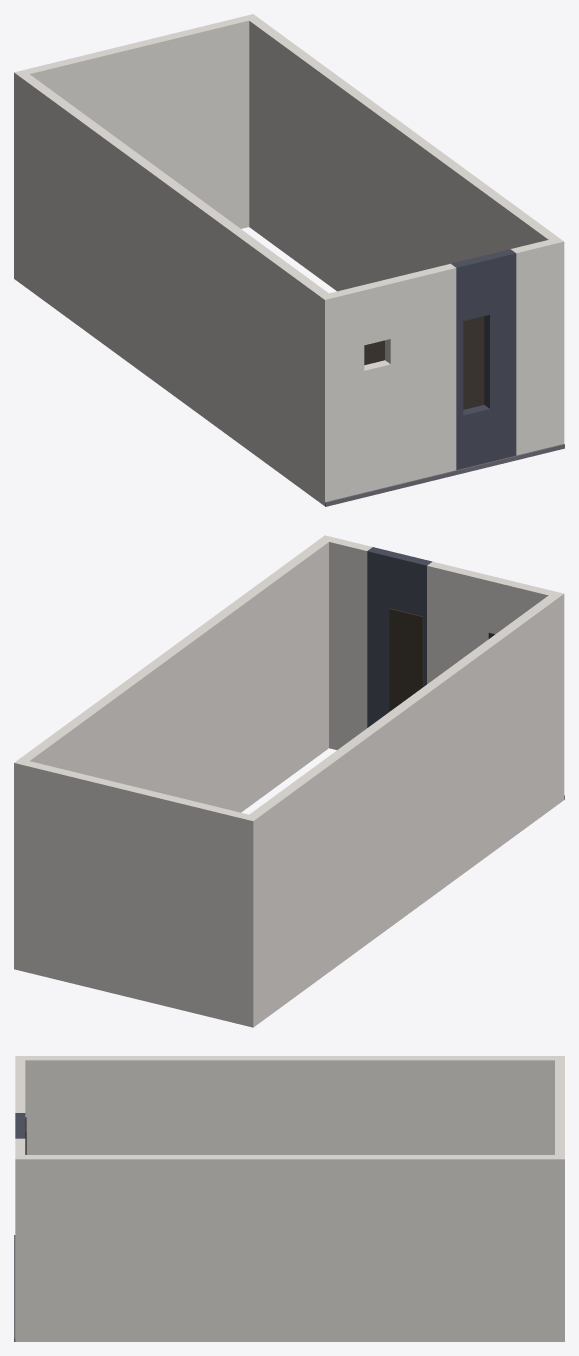
Rendered from SM_Floor_NarrowUpperScatterHigh_White_364_01.gltf.
3 renders of one model, top to bottom at view 1: azimuth 30°, elevation 25°; view 2: azimuth 150°, elevation 25°; view 3: azimuth 270°, elevation 25°, orthographic. The views are drawn at different scales.
Parts seen in each view (by area): view 1: SM_Floor_NarrowUpperScatterHigh_White_364_01; view 2: SM_Floor_NarrowUpperScatterHigh_White_364_01; view 3: SM_Floor_NarrowUpperScatterHigh_White_364_01.
Part boxes in pixels (box(x1,y1,x2,y2)): SM_Floor_NarrowUpperScatterHigh_White_364_01: box(14, 14, 564, 506); SM_Floor_NarrowUpperScatterHigh_White_364_01: box(14, 535, 564, 1027); SM_Floor_NarrowUpperScatterHigh_White_364_01: box(14, 1056, 564, 1341).
Bounding box in the file's own units: 3.64 × 3 × 8.21.
1 material, 1 textured.
